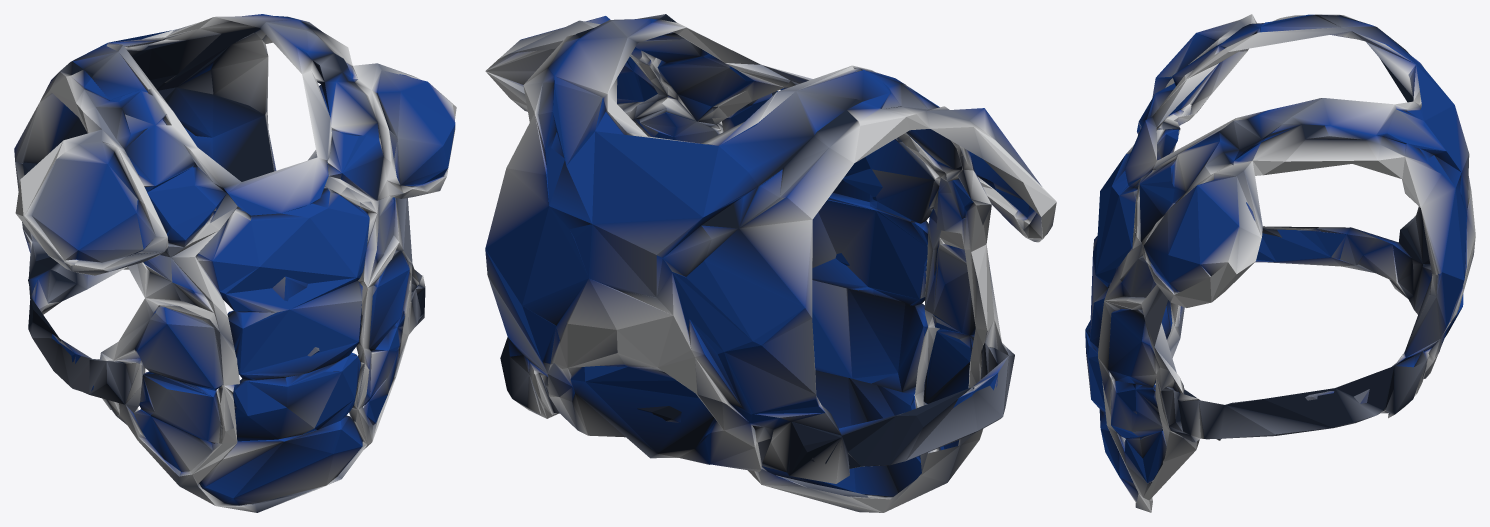
The model's file is chest.glb.
3 views of the same model, side by side, from view 1: azimuth 30°, elevation 25°; view 2: azimuth 150°, elevation 25°; view 3: azimuth 270°, elevation 25° (orthographic). The views are drawn at different scales.
Size of the model in its own units: 1.89 by 1.66 by 1.36.
